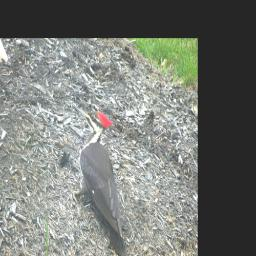Woodpecker: (68, 103, 131, 256)
